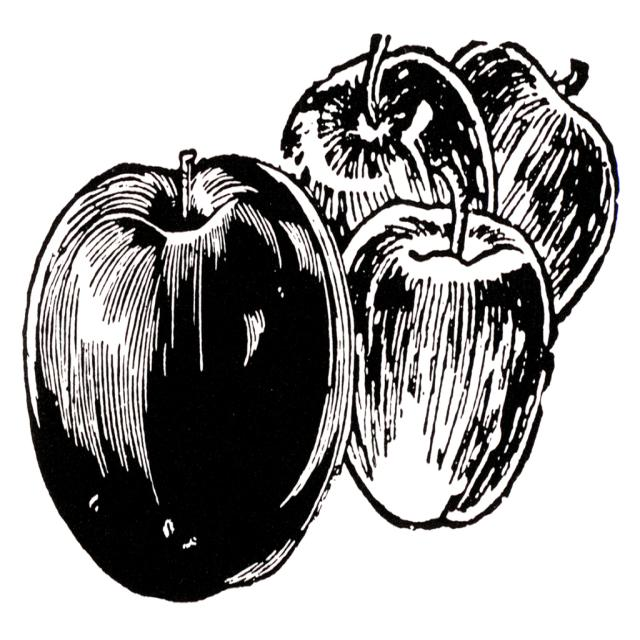Healty Apple: (80, 167, 348, 609), (340, 162, 555, 530), (449, 35, 621, 323), (278, 31, 497, 254)
